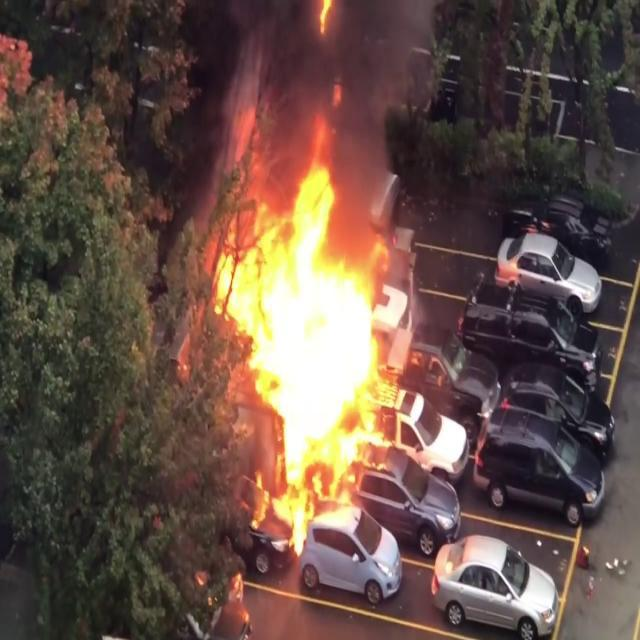Fire: (200, 110, 438, 548)
